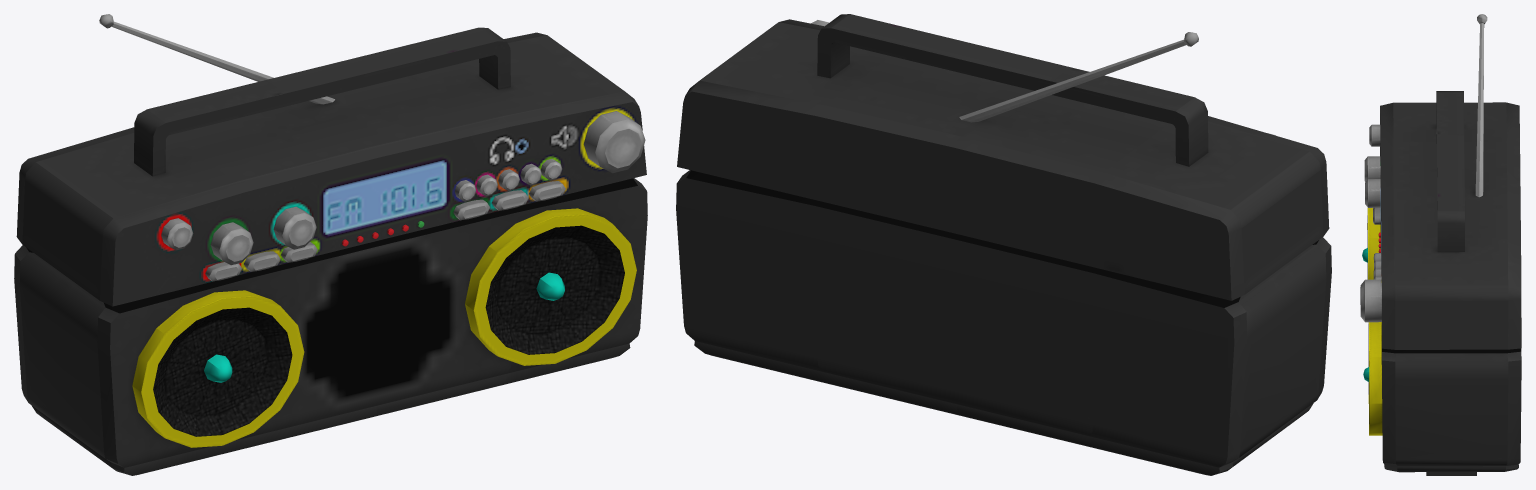
The model's file is EightiesBoombox.obj.
3 views of the same model, side by side, from view 1: azimuth 30°, elevation 25°; view 2: azimuth 150°, elevation 25°; view 3: azimuth 270°, elevation 25° (orthographic). The views are drawn at different scales.
Visible parts, largest first — view 1: Handle1; view 2: Handle1; view 3: Handle1.
Part boxes in pixels (x1,y1,x2,y2): Handle1: (14, 14, 647, 475); Handle1: (676, 14, 1331, 475); Handle1: (1360, 14, 1521, 475).
Bounding box in the file's own units: 3.32 × 2.39 × 1.15.
Materials: 1 (1 with a texture image).
